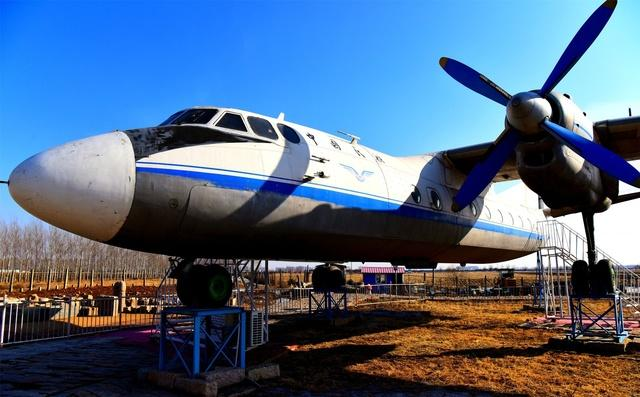airplane: (7, 53, 640, 268)
